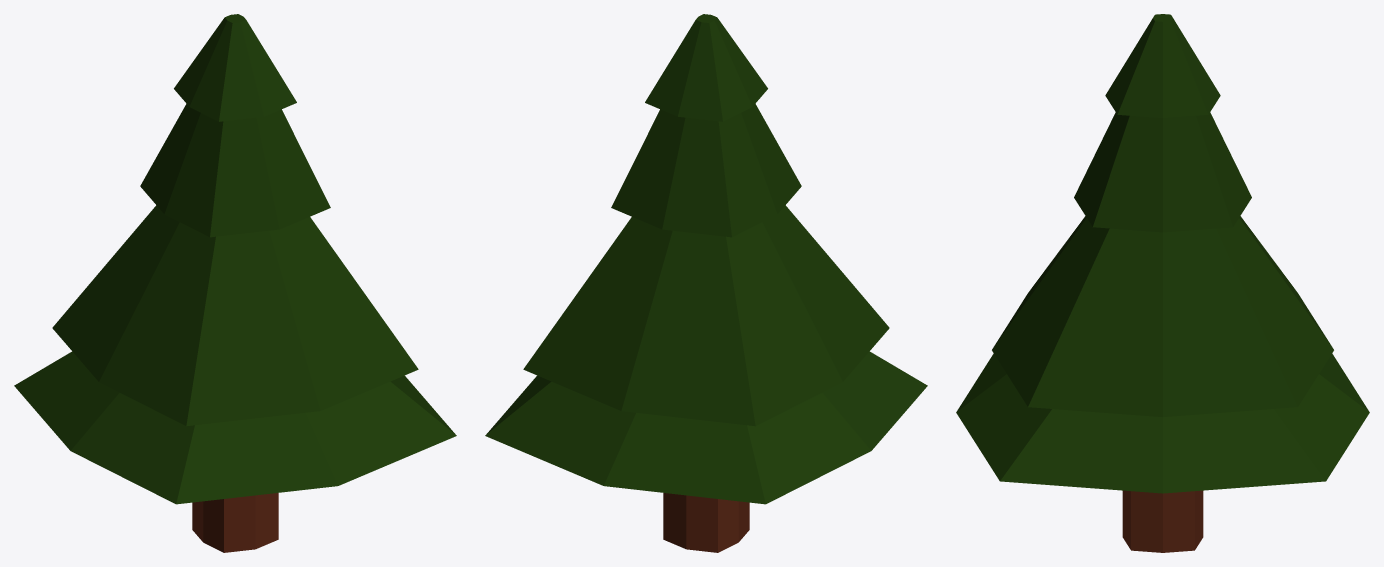
File: TreesInTheDistance-3.fbx
3 views of the same model, side by side, from view 1: azimuth 30°, elevation 25°; view 2: azimuth 150°, elevation 25°; view 3: azimuth 270°, elevation 25° (orthographic).
Visible parts, largest first — view 1: TreeDistant-1.273; view 2: TreeDistant-1.273; view 3: TreeDistant-1.273.
Boxes of the visible parts, box(x1,y1,x2,y2) form: TreeDistant-1.273: box(14, 14, 456, 552); TreeDistant-1.273: box(485, 14, 927, 552); TreeDistant-1.273: box(956, 14, 1369, 552).
Size of the model in its own units: 287 by 266 by 398.
